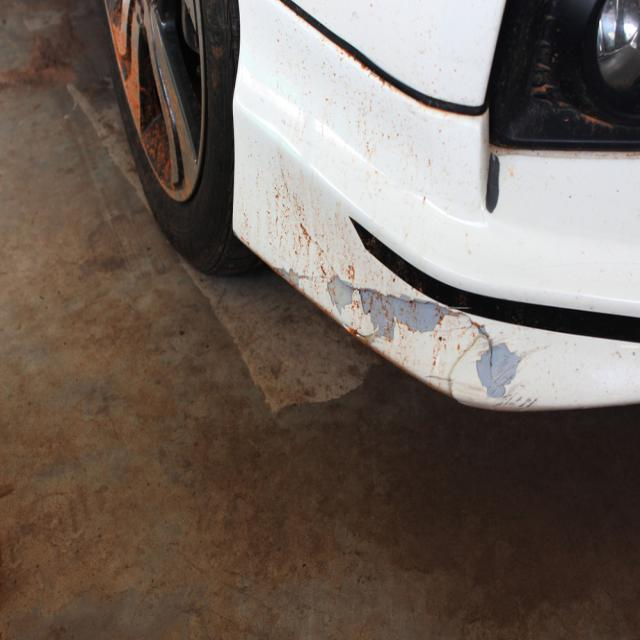scratch: (274, 262, 536, 409)
